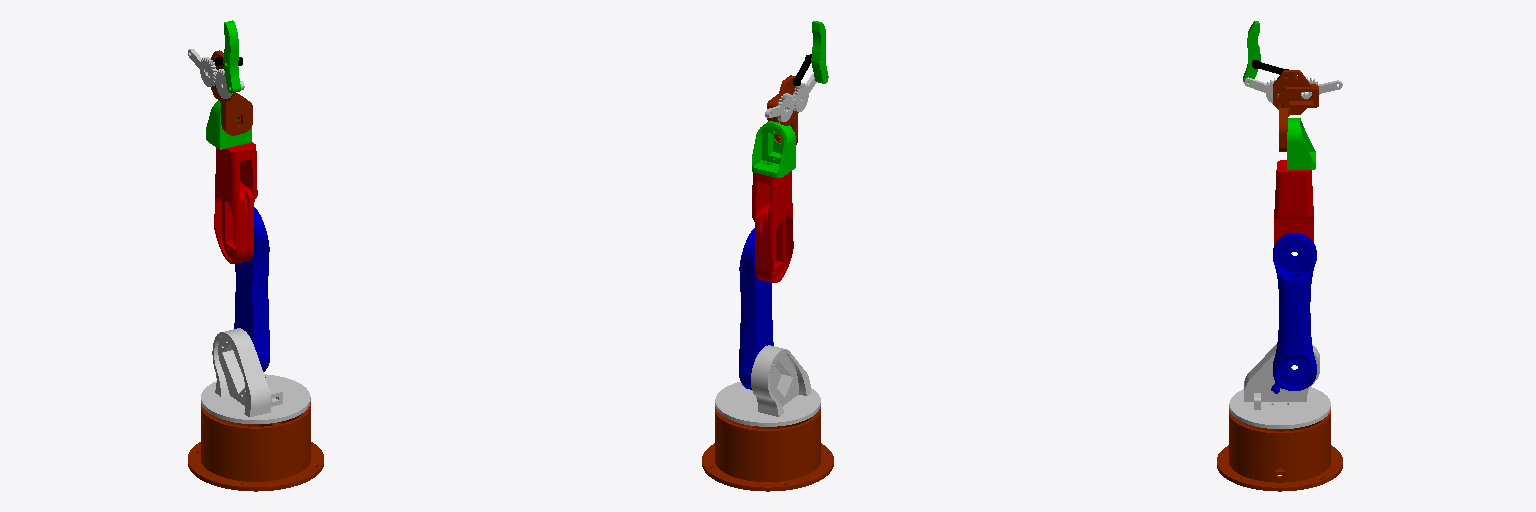
URDF robot description (ros_mani):
<?xml version="1.0"?>
<robot name="ros_mani">
	<link name="base_link">
		<visual>
			<geometry>
				<mesh filename="package://ros_manipulator_project/meshes/MeshBody1.stl" scale="0.0002 0.0002 0.0002"/>
			</geometry>
			<material name="orange" />
			<origin rpy="1.57 0 0" xyz="-0.12 0.12 0" />
		</visual>
	</link>

	<link name="mani_lid_link">
		<visual>
			<geometry>
				<mesh filename="package://ros_manipulator_project/meshes/MeshBody2.stl" scale="0.0002 0.0002 0.0002"/>
			</geometry>
			<material name="white" />
			<origin rpy="1.57 0 0" xyz="-0.096 0.096 0" />
		</visual>
	</link>

	<link name="mani_arm01_link">
		<visual>
			<geometry>
				<mesh filename="package://ros_manipulator_project/meshes/MeshBody3.stl" scale="0.0002 0.0002 0.0002"/>
			</geometry>
			<material name="blue" />
			<origin rpy="0 1.57 0" xyz="0 -0.05 0.055" />
		</visual>
	</link>

	<link name="mani_arm02_link">
		<visual>
			<geometry>
				<mesh filename="package://ros_manipulator_project/meshes/MeshBody4.stl" scale="0.0002 0.0002 0.0002"/>
			</geometry>
			<material name="red" />
			<origin rpy="0 1.57 0" xyz="-0.01 -0.052 0.039" />
		</visual>
	</link>

	<link name="mani_arm03_link">
		<visual>
			<geometry>
				<mesh filename="package://ros_manipulator_project/meshes/MeshBody5.stl" scale="0.0002 0.0002 0.0002"/>
			</geometry>
			<material name="green" />
			<origin rpy="-1.57 0 0" xyz="-0.024 -0.028 0" />
		</visual>
	</link>

	<link name="mani_gripper_base_link">
		<visual>
			<geometry>
				<mesh filename="package://ros_manipulator_project/meshes/MeshBody6.stl" scale="0.0002 0.0002 0.0002"/>
			</geometry>
			<material name="orange" />
			<origin rpy="-1.57 1.57 -1.57" xyz="-0.0262 -0.028 0.025" />
		</visual>
	</link>

	<link name="mani_left_gear_link">
		<visual>
			<geometry>
				<mesh filename="package://ros_manipulator_project/meshes/MeshBody8.stl" scale="0.0002 0.0002 0.0002"/>
			</geometry>
			<material name="white" />
			<origin rpy="1.57 3.1416 -1.2" xyz="0.052 -0.054 0" />
		</visual>
	</link>

	<link name="mani_right_gear_link">
		<visual>
			<geometry>
				<mesh filename="package://ros_manipulator_project/meshes/MeshBody7.stl" scale="0.0002 0.0002 0.0002"/>
			</geometry>
			<material name="white" />
			<origin rpy="0 -1.2 0" xyz="0.018 0 -0.038" />
		</visual>
	</link>

	<link name="mani_left_gear_support_link">
		<visual>
			<geometry>
				<mesh filename="package://ros_manipulator_project/meshes/MeshBody9.stl" scale="0.0002 0.0002 0.0002"/>
			</geometry>
			<material name="black" />
			<origin rpy="1.57 3.1416 1.84" xyz="-0.01 0.005 0" />
		</visual>
	</link>

	<link name="mani_right_gear_support_link">
		<visual>
			<geometry>
				<mesh filename="package://ros_manipulator_project/meshes/MeshBody10.stl" scale="0.0002 0.0002 0.0002"/>
			</geometry>
			<material name="black" />
			<origin rpy="0 -1.2 -0.3" xyz="0.0045 0 -0.01" />
		</visual>
	</link>

	<link name="mani_left_gripper_link">
		<visual>
			<geometry>
				<mesh filename="package://ros_manipulator_project/meshes/MeshBody11.stl" scale="0.0002 0.0002 0.0002"/>
			</geometry>
			<material name="red" />
			<origin rpy="0 1.57 3.1416" xyz="0.12 0.01 0.002" />
		</visual>
	</link>

	<link name="mani_right_gripper_link">
		<visual>
			<geometry>
				<mesh filename="package://ros_manipulator_project/meshes/MeshBody12.stl" scale="0.0002 0.0002 0.0002"/>
			</geometry>
			<material name="green" />
			<origin rpy="3.1416 -1.57 3.1416" xyz="0.1213 -0.01 -0.015" />
		</visual>
	</link>

	<joint name="base_joint" type="revolute">
		<parent link="base_link" />
		<child link="mani_lid_link" />
		<axis xyz="0 0 1" />
		<limit effort="1000.0" lower="-1.55" upper="1.55" velocity="1.0" />
		<origin rpy="0 0 0" xyz="0 0 0.12" />
	</joint>

	<joint name="lid_joint" type="revolute">
		<parent link="mani_lid_link" />
		<child link="mani_arm01_link" />
		<axis xyz="1 0 0" />
		<limit effort="1000.0" lower="-1.4" upper="1.4" velocity="1.0" />
		<origin rpy="1.57 0 0" xyz="-0.007 0.025 0.083" />
	</joint>

	<joint name="arm01_joint" type="revolute">
		<parent link="mani_arm01_link" />
		<child link="mani_arm02_link" />
		<axis xyz="1 0 0" />
		<limit effort="1000.0" lower="-1.55" upper="1.55" velocity="1.0" />
		<origin rpy="0 3.1416 0" xyz="0.0015 0.238 0" />
	</joint>

	<joint name="arm02_joint" type="revolute">
		<parent link="mani_arm02_link" />
		<child link="mani_arm03_link" />
		<axis xyz="0 0 1" />
		<limit effort="1000.0" lower="-1.55" upper="1.55" velocity="1.0" />
		<origin rpy="1.57 0 0" xyz="0.018 0.18 0.015" />
	</joint>

	<joint name="arm03_joint" type="revolute">
		<parent link="mani_arm03_link" />
		<child link="mani_gripper_base_link" />
		<axis xyz="0 0 1" />
		<limit effort="1000.0" lower="-1.0" upper="1.0" velocity="1.0" />
		<origin rpy="1.57 1.57 0" xyz="0.01 -0.03 -0.055" />
	</joint>

	<joint name="gripper_base_joint" type="revolute">
		<parent link="mani_gripper_base_link" />
		<child link="mani_left_gear_link" />
		<axis xyz="0 0 1" />
		<limit effort="1000.0" lower="0.0" upper="1.3" velocity="1.0" />
		<origin rpy="1.57 0 0" xyz="0.08 0.028 -0.04" />
	</joint>

	<joint name="sub_gripper_base_joint" type="revolute">
		<parent link="mani_gripper_base_link" />
		<child link="mani_right_gear_link" />
		<mimic joint="gripper_base_joint" />
		<axis xyz="0 1 0" />
		<limit effort="1000.0" lower="0.0" upper="1.3" velocity="1.0" />
		<origin rpy="0 0 0" xyz="0.077 0.028 0.015" />
	</joint>

	<joint name="gear_support_joint" type="revolute">
		<parent link="mani_gripper_base_link" />
		<child link="mani_left_gear_support_link" />
		<mimic joint="gripper_base_joint" />
		<axis xyz="0 0 1" />
		<limit effort="1000.0" lower="0.0" upper="1.3" velocity="1.0" />
		<origin rpy="1.57 0 0" xyz="0.118 0.028 -0.021" />
	</joint>

	<joint name="sub_gear_support_joint" type="revolute">
		<parent link="mani_gripper_base_link" />
		<child link="mani_right_gear_support_link" />
		<mimic joint="gear_support_joint" />
		<axis xyz="0 1 0" />
		<limit effort="1000.0" lower="0.0" upper="1.3" velocity="1.0" />
		<origin rpy="0 0 0" xyz="0.118 0.028 -0.0005" />
	</joint>

	<joint name="gripper_joint" type="revolute">
		<parent link="mani_left_gear_link" />
		<child link="mani_left_gripper_link" />
		<mimic joint="gripper_base_joint" />
		<axis xyz="0 0 -1" />
		<limit effort="1000.0" lower="0.0" upper="1.3" velocity="1.0" />
		<origin rpy="0 0 0.42" xyz="0.015 -0.06 -0.01" />
	</joint>

	<joint name="sub_gripper_joint" type="revolute">
		<parent link="mani_right_gear_link" />
		<child link="mani_right_gripper_link" />
		<mimic joint="gripper_joint" />
		<axis xyz="0 0 1" />
		<limit effort="1000.0" lower="0.0" upper="1.3" velocity="1.0" />
		<origin rpy="1.57 0.32 0" xyz="0.023 0.01 0.057" />
	</joint>

	<material name="red">
		<color rgba="0.8 0 0 1" />
	</material>
	<material name="green">
		<color rgba="0 0.8 0 1" />
	</material>
	<material name="blue">
		<color rgba="0 0 0.8 1" />
	</material>
	<material name="orange">
		<color rgba="0.57 0.17 0.0 1" />
	</material>
	<material name="white">
		<color rgba="0.8 0.8 0.8 1" />
	</material>
	<material name="black">
		<color rgba="0 0 0 1" />
	</material>
</robot>

--- What the picture shows (computed from the rendered views, not written in the file) ---
The picture shows the robot from 3 angles, left to right: view 1: azimuth 30°, elevation 25°; view 2: azimuth 150°, elevation 25°; view 3: azimuth 270°, elevation 25°; orthographic projection.
Model ros_mani with 12 links and 11 joints (11 revolute), rooted at base_link, posed every joint at zero.
Visible links, largest first — view 1: base_link, mani_lid_link, mani_arm02_link, mani_arm01_link, mani_gripper_base_link, mani_right_gripper_link, mani_arm03_link, mani_left_gear_link; view 2: base_link, mani_lid_link, mani_arm02_link, mani_arm01_link, mani_arm03_link, mani_right_gripper_link, mani_gripper_base_link; view 3: base_link, mani_arm01_link, mani_lid_link, mani_arm02_link, mani_gripper_base_link, mani_arm03_link, mani_right_gripper_link.
Link boxes in pixels (left/top/right/bottom): base_link: left=188, top=402, right=323, bottom=491; mani_lid_link: left=201, top=328, right=310, bottom=423; mani_arm02_link: left=214, top=142, right=257, bottom=263; mani_arm01_link: left=234, top=207, right=269, bottom=377; mani_gripper_base_link: left=211, top=50, right=252, bottom=135; mani_right_gripper_link: left=223, top=20, right=240, bottom=93; mani_arm03_link: left=206, top=100, right=251, bottom=149; mani_left_gear_link: left=188, top=49, right=216, bottom=86; base_link: left=702, top=407, right=833, bottom=491; mani_lid_link: left=715, top=345, right=820, bottom=426; mani_arm02_link: left=752, top=171, right=793, bottom=282; mani_arm01_link: left=739, top=228, right=773, bottom=389; mani_arm03_link: left=752, top=121, right=795, bottom=177; mani_right_gripper_link: left=811, top=21, right=828, bottom=83; mani_gripper_base_link: left=767, top=75, right=798, bottom=144; base_link: left=1217, top=409, right=1342, bottom=491; mani_arm01_link: left=1271, top=233, right=1316, bottom=393; mani_lid_link: left=1229, top=344, right=1330, bottom=428; mani_arm02_link: left=1274, top=160, right=1313, bottom=244; mani_gripper_base_link: left=1273, top=70, right=1318, bottom=151; mani_arm03_link: left=1287, top=118, right=1315, bottom=169; mani_right_gripper_link: left=1243, top=21, right=1260, bottom=82.
Size in the robot's own frame: 0.2425 by 0.2425 by 0.8969 metres.
10 mesh visuals loaded from 12 distinct referenced files (10 binary STL); not drawn: 2 (reference not matched to a file when rendering).